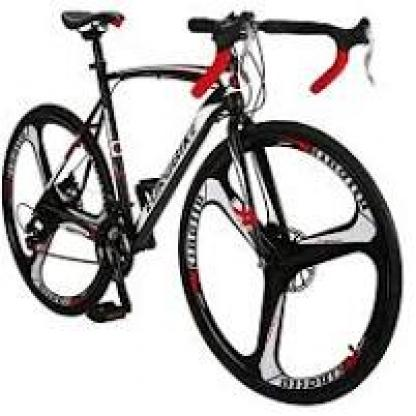Bike: (1, 6, 416, 407)
